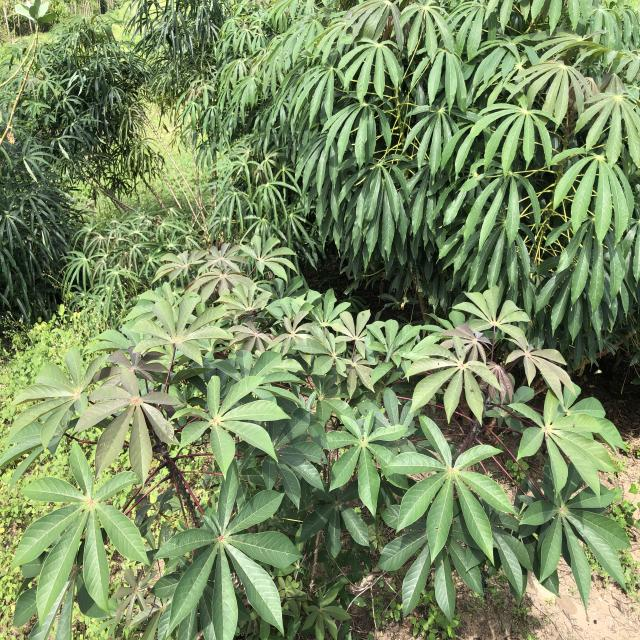Mosca: (158, 427, 177, 444), (463, 380, 478, 400), (431, 357, 445, 372), (359, 307, 367, 316)
